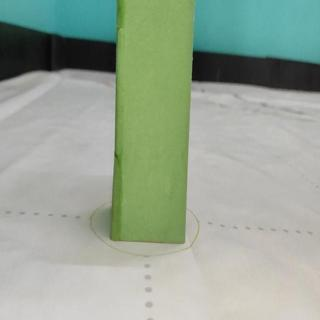greenbox: (109, 0, 194, 243)
